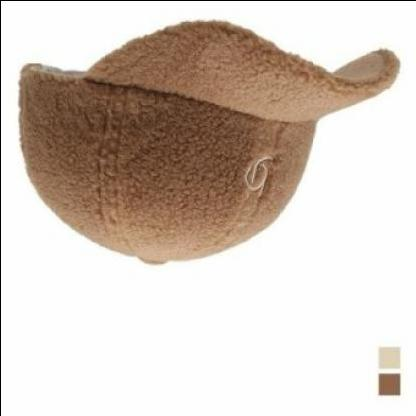cap: (10, 16, 405, 274)
